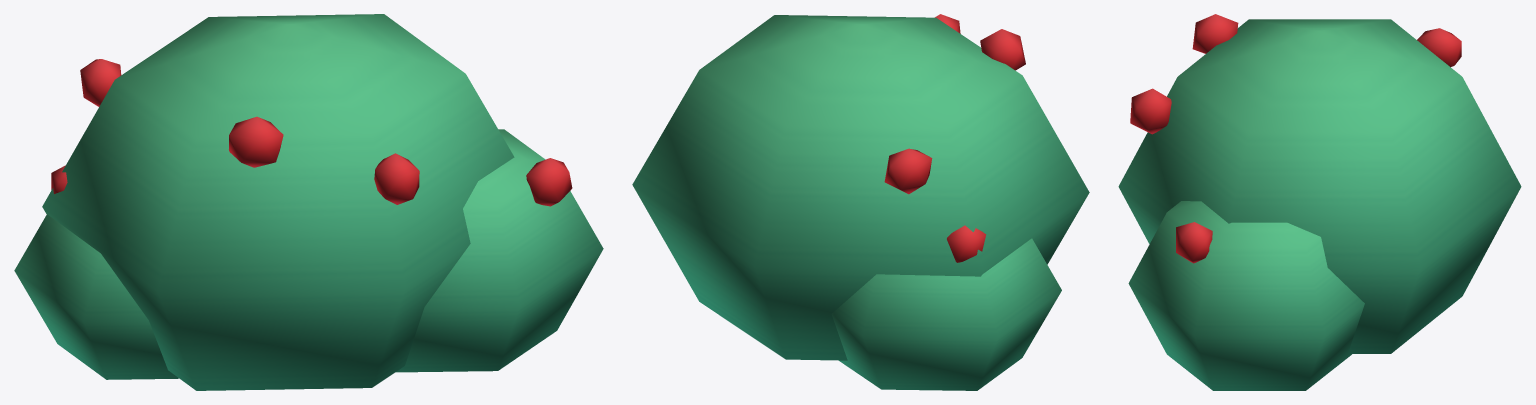
The model's file is bush_C.fbx.
3 views of the same model, side by side, from view 1: azimuth 30°, elevation 25°; view 2: azimuth 150°, elevation 25°; view 3: azimuth 270°, elevation 25° (orthographic). The views are drawn at different scales.
Visible parts, largest first — view 1: bush_C; view 2: bush_C; view 3: bush_C.
Boxes of the visible parts, <box> form: bush_C: <box>14,14,603,390</box>; bush_C: <box>632,14,1089,390</box>; bush_C: <box>1118,14,1521,390</box>.
Size of the model in its own units: 0.4538 by 0.34 by 0.4.
Materials: 1 (1 with a texture image).
